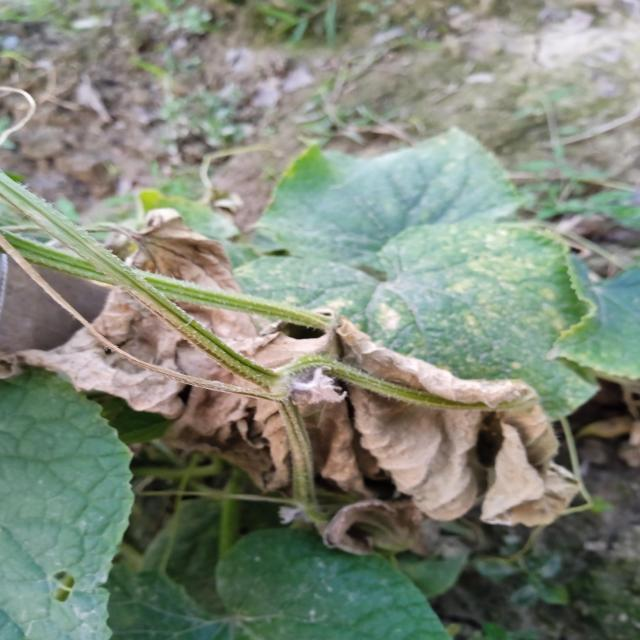cucumber_bacterial: (329, 326, 582, 560), (15, 290, 239, 447)
